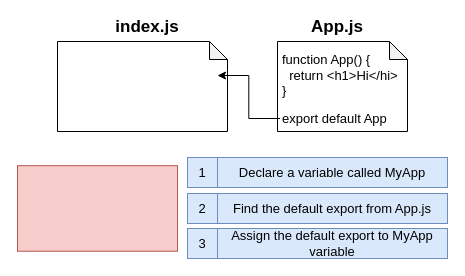
Some shapes in this 465 by 276 pixel diagram are drawn without their labels. The centre of each missing label's shape, as x and y in pixels:
Confusing Thing! Default exports can be renamed in the importing file!!!: the point at 97,208
import MyApp from './App' const App = 5;: the point at 142,86
